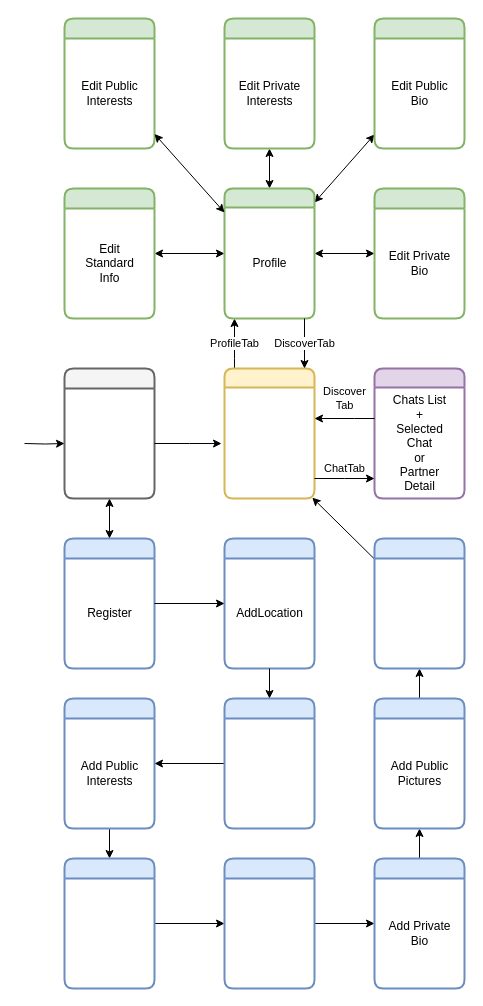
Some shapes in this 483 by 1006 pixel diagram are drawn without their labels. The centre of each missing label's shape, as x and y in pixels:
Add Private Interests: (109,923)
Add Private Pictures: (419,603)
Add Public Bio: (269,923)
Add Standard Info: (269,763)
Discover + Show Partner Detail: (269,433)
Login: (109,433)
